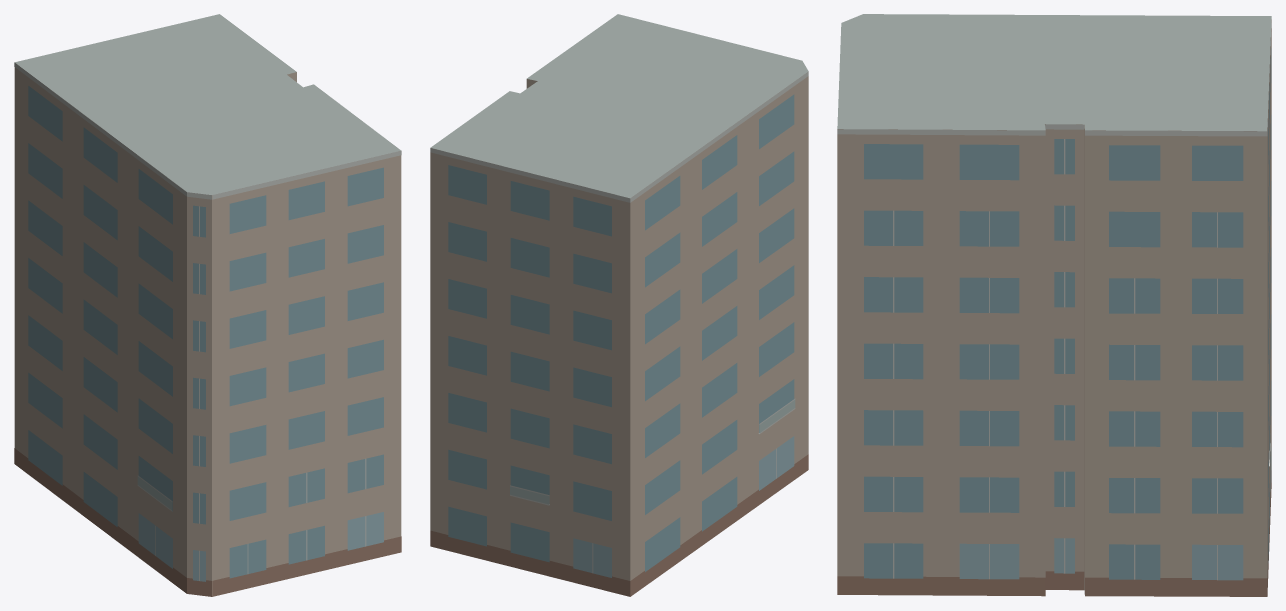
The model's file is survey-upis-32744821.glb.
3 views of the same model, side by side, from view 1: azimuth 30°, elevation 25°; view 2: azimuth 150°, elevation 25°; view 3: azimuth 270°, elevation 25° (orthographic). The views are drawn at different scales.
Parts seen in each view (by area): view 1: survey-upis-32744821.tmp; view 2: survey-upis-32744821.tmp; view 3: survey-upis-32744821.tmp.
Boxes of the visible parts, left/top/right/bottom form: survey-upis-32744821.tmp: left=14, top=14, right=401, bottom=596; survey-upis-32744821.tmp: left=430, top=14, right=808, bottom=596; survey-upis-32744821.tmp: left=837, top=14, right=1271, bottom=596.
Bounding box in the file's own units: 11.63 × 21.5 × 18.18.
